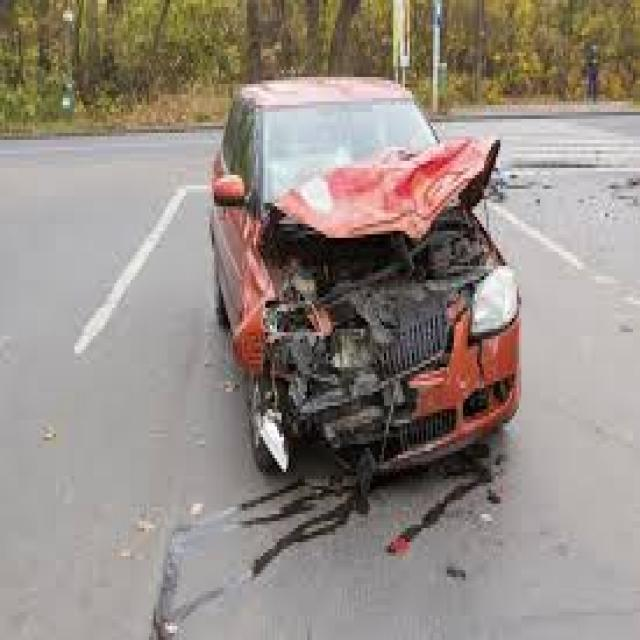accident: (197, 80, 542, 506)
